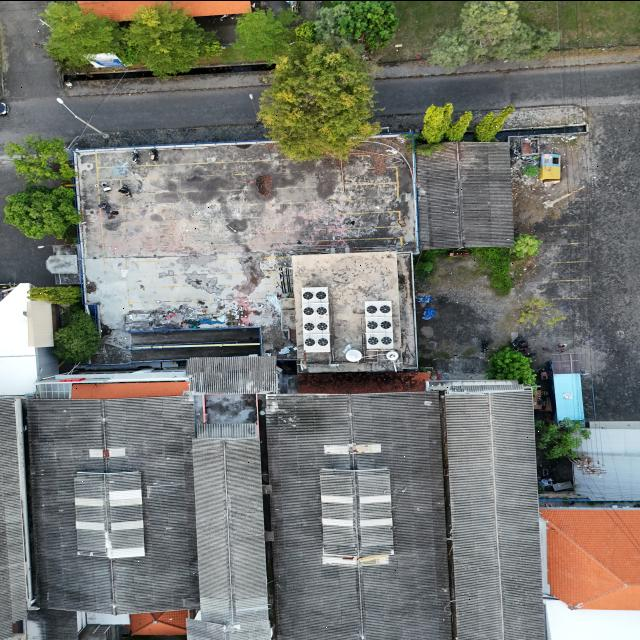Tree: (125, 1, 222, 70), (3, 186, 85, 240), (40, 4, 120, 56), (47, 306, 105, 358), (533, 411, 588, 460), (482, 343, 540, 385), (504, 231, 546, 255)
